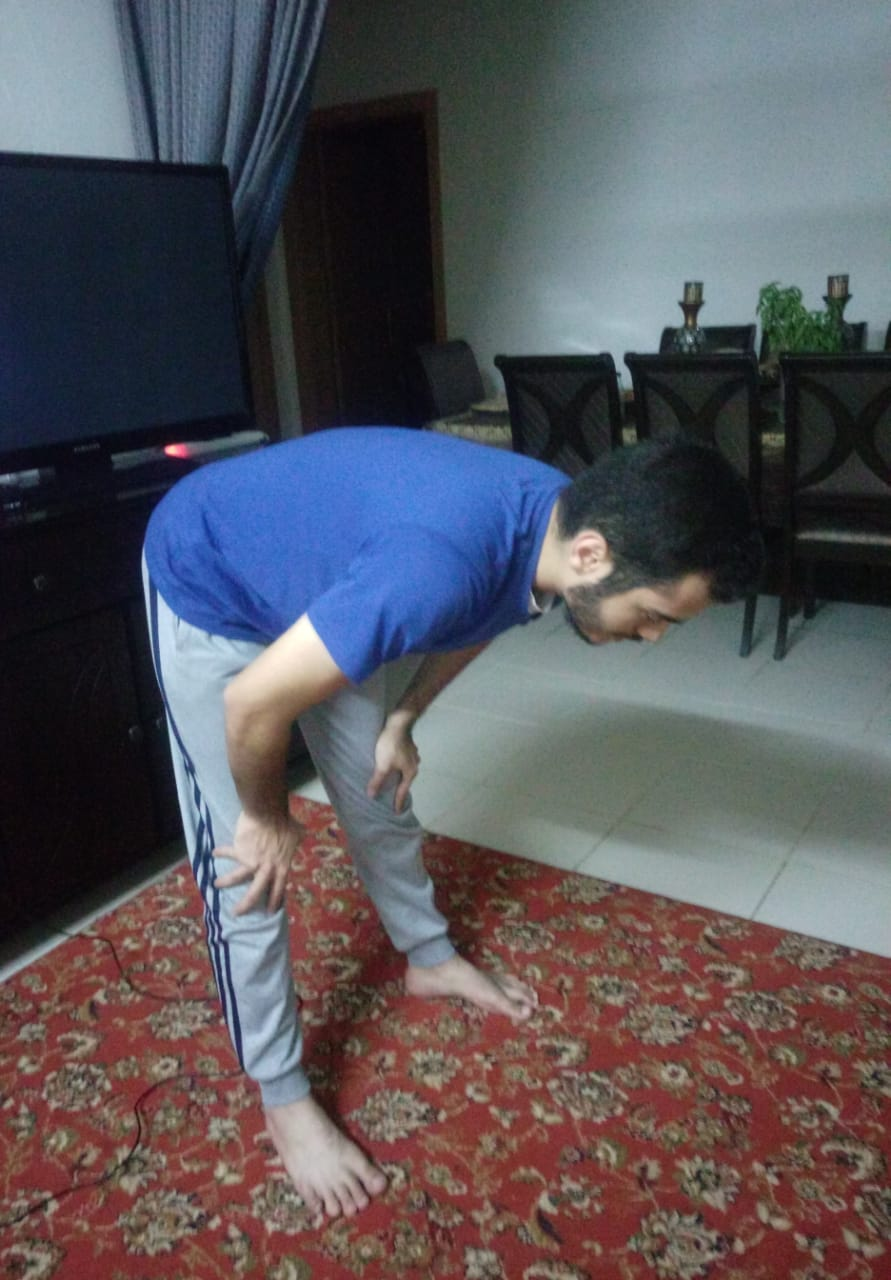ruku: (111, 386, 846, 1242)
